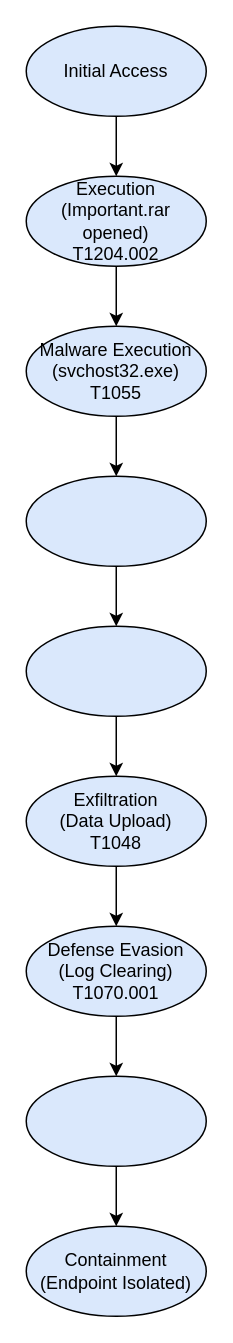
This 233x1343 diagram has some shape labels left out. Each missing label, with the centre of its shape:
Command & Control (201.0.102.32:4444) T1071: the point at 115,670
Detection (Wazuh Alert): the point at 115,1120
Persistence (Run Key Created) T1547.001: the point at 115,520
